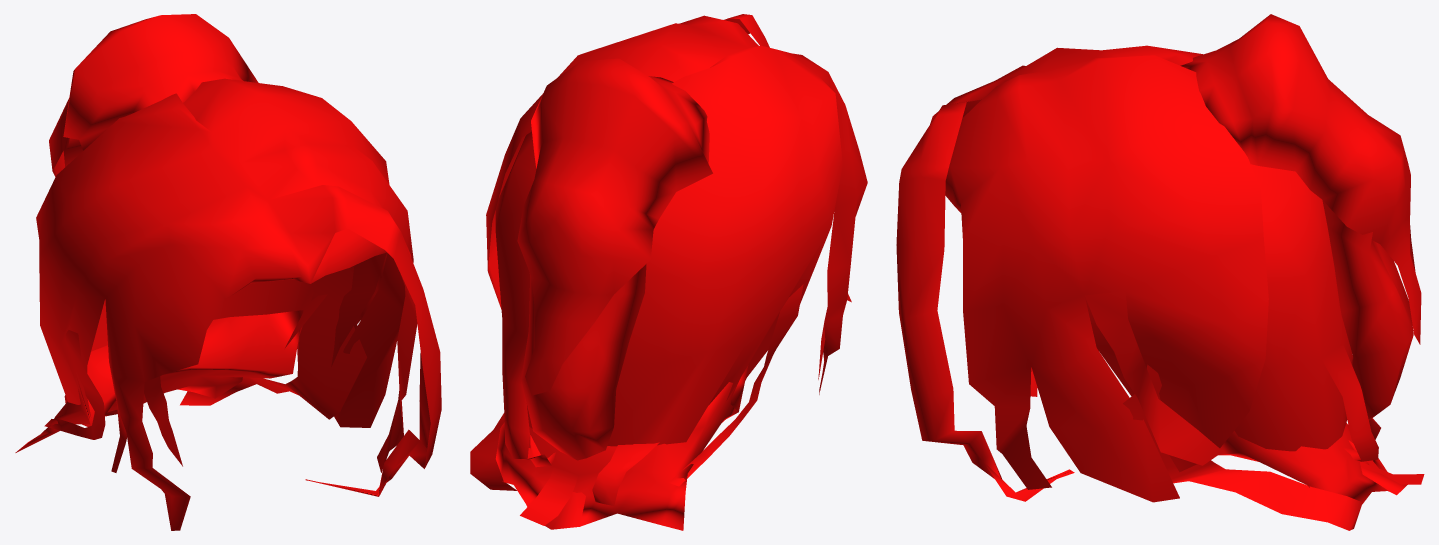
Rendered from faydaen_hair_1_M.glb.
The picture shows the model from 3 angles, left to right: view 1: azimuth 30°, elevation 25°; view 2: azimuth 150°, elevation 25°; view 3: azimuth 270°, elevation 25°; orthographic projection. The views are drawn at different scales.
Bounding box in the file's own units: 0.1905 × 0.2603 × 0.2704.
Materials: 1 (1 with a texture image).
